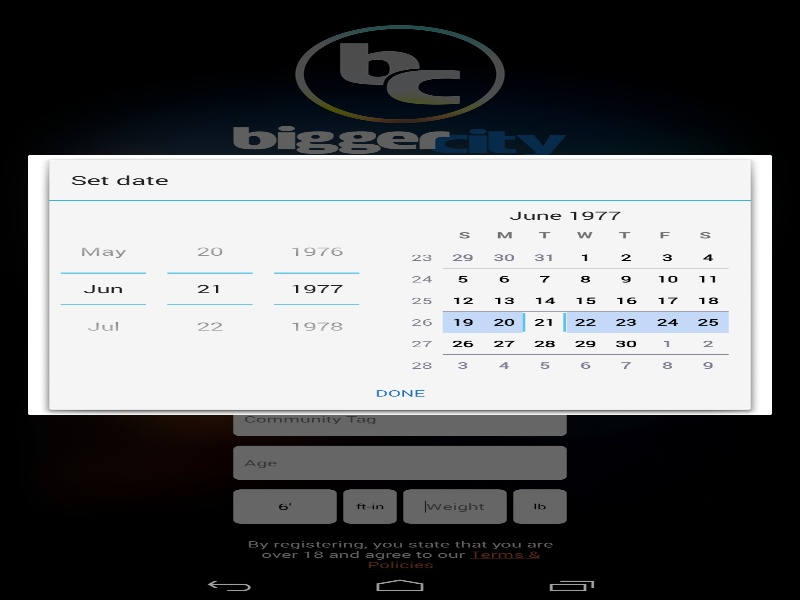Button: (49, 376, 750, 410), (60, 303, 146, 345), (167, 303, 252, 345), (274, 303, 359, 345), (60, 232, 146, 273), (167, 232, 252, 273), (274, 232, 359, 273)
Input: (60, 273, 146, 303), (167, 273, 252, 303), (274, 273, 359, 303)
